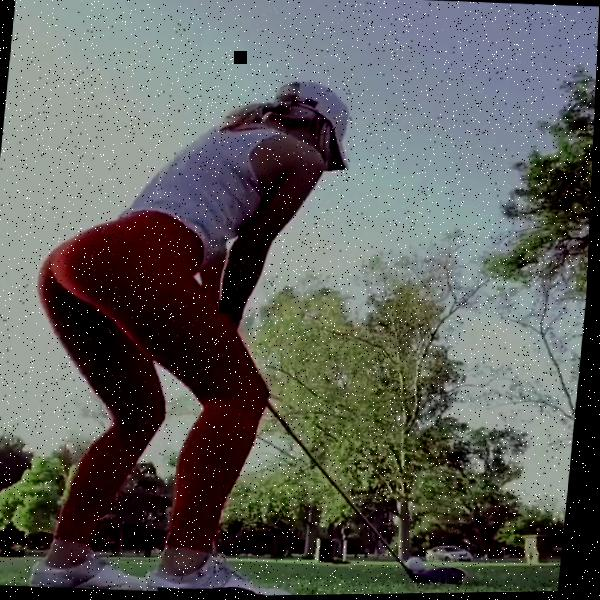ClubHead: (416, 566, 474, 587)
GolfBall: (409, 558, 431, 572)
